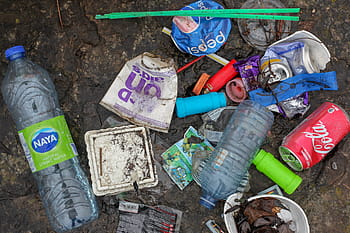plastic_bottle: (1, 28, 117, 233), (174, 81, 305, 229)
